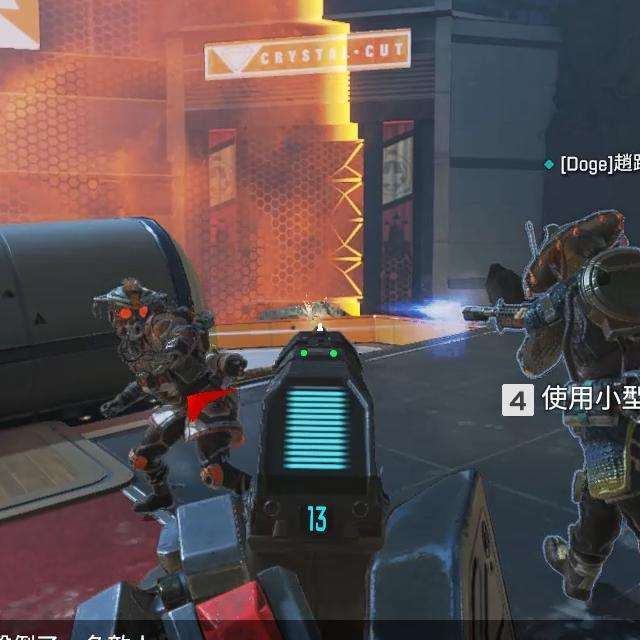avatar: (518, 210, 640, 605), (91, 275, 251, 519)
